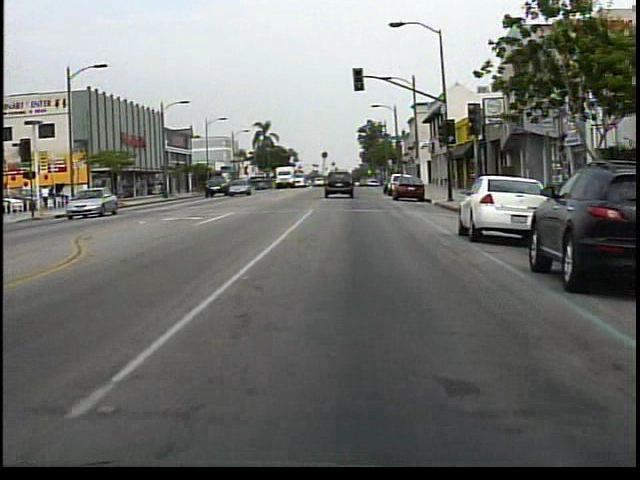person: (41, 183, 54, 212)
